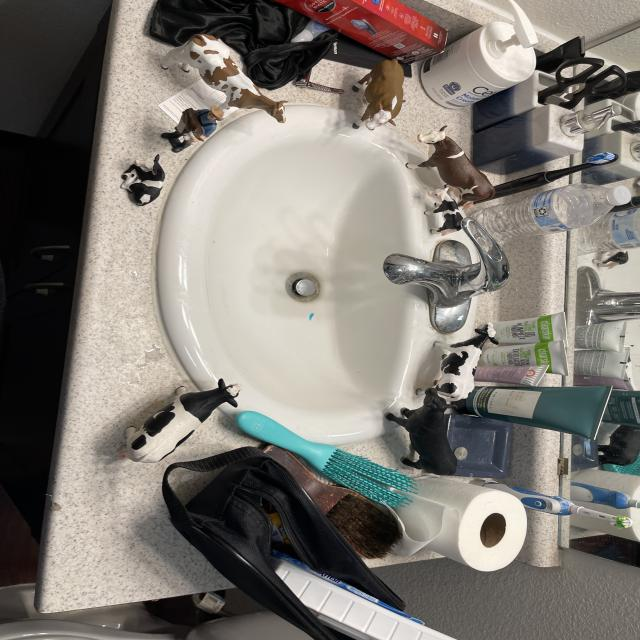cow: (163, 20, 299, 144), (112, 358, 248, 475), (397, 118, 499, 227), (381, 384, 472, 489), (420, 322, 513, 406), (352, 57, 411, 132), (115, 154, 173, 211), (425, 183, 468, 237), (170, 106, 207, 148)
person: (197, 108, 219, 138)
